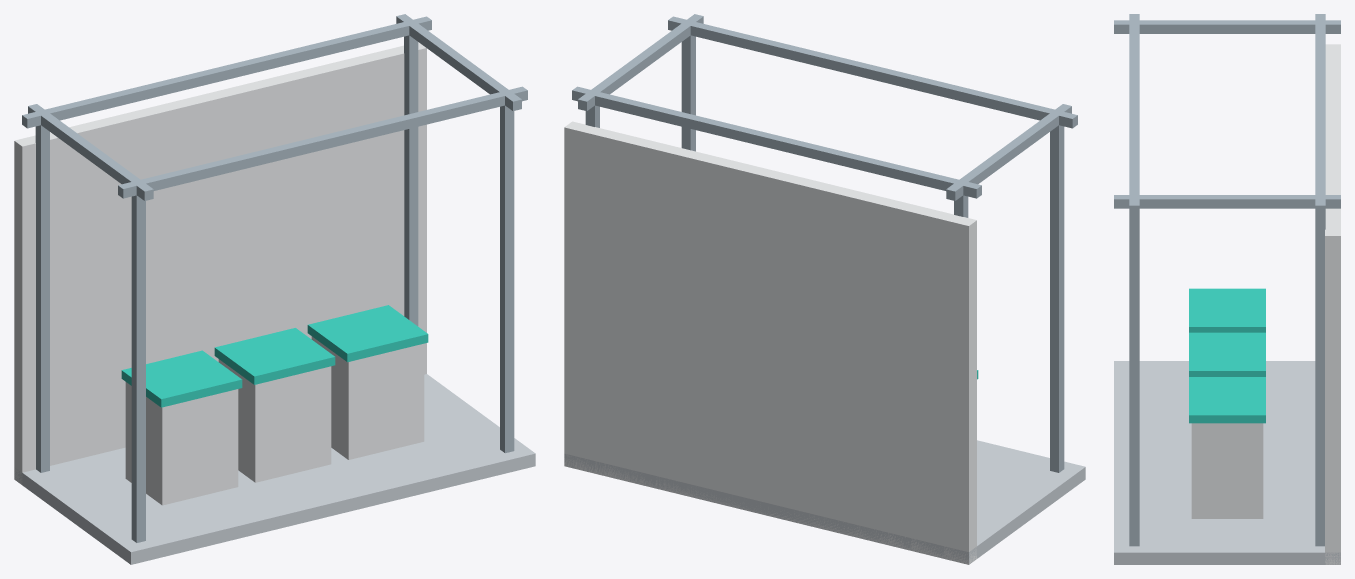
The picture shows the model from 3 angles, left to right: view 1: azimuth 30°, elevation 25°; view 2: azimuth 150°, elevation 25°; view 3: azimuth 270°, elevation 25°; orthographic projection. The views are drawn at different scales.
Visible parts, largest first — view 1: Exhibition Booth Concept; view 2: Exhibition Booth Concept; view 3: Exhibition Booth Concept.
Boxes of the visible parts, left/top/right/bottom form: Exhibition Booth Concept: left=14, top=14, right=535, bottom=564; Exhibition Booth Concept: left=564, top=14, right=1085, bottom=564; Exhibition Booth Concept: left=1114, top=14, right=1340, bottom=564.
Size of the model in its own units: 4 by 3.49 by 2.
